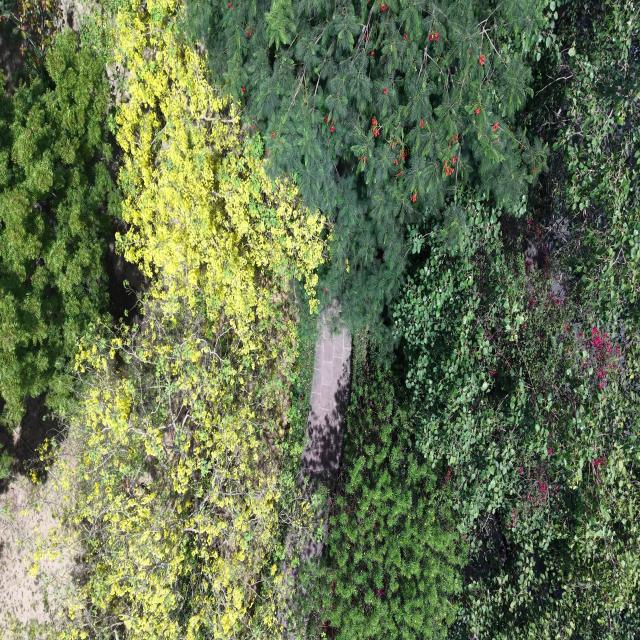DRY_AREA: (0, 395, 78, 639), (0, 395, 77, 639), (0, 474, 78, 639), (0, 474, 77, 639), (0, 475, 77, 639), (298, 307, 351, 503), (0, 19, 25, 94), (0, 24, 23, 94)
PATHWAYS: (298, 307, 351, 501), (298, 307, 351, 499), (300, 309, 351, 482)
VEGETATION_TREE: (7, 0, 639, 639), (55, 0, 324, 639), (390, 3, 638, 637), (395, 2, 639, 638), (188, 0, 554, 333), (396, 203, 639, 638), (115, 0, 324, 370), (300, 334, 467, 639), (0, 31, 112, 426), (548, 0, 639, 322), (0, 0, 63, 71), (0, 449, 11, 480)
